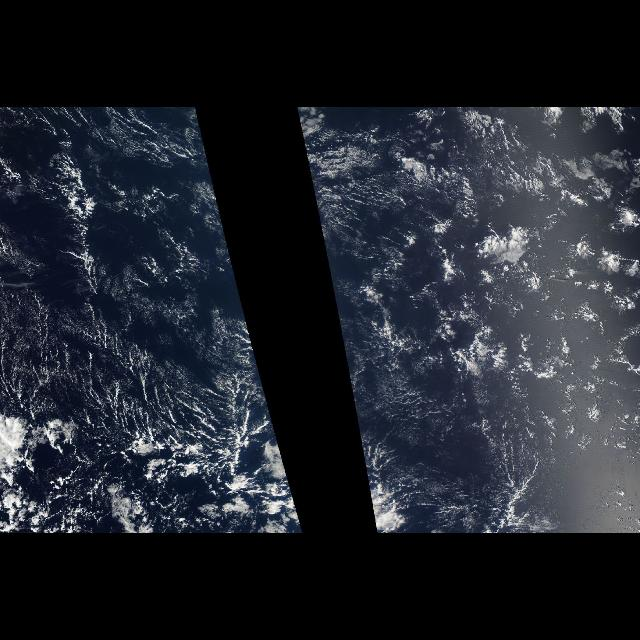Flower: (360, 119, 640, 478)
Gravel: (18, 425, 196, 511)
Sugar: (0, 109, 276, 434)
